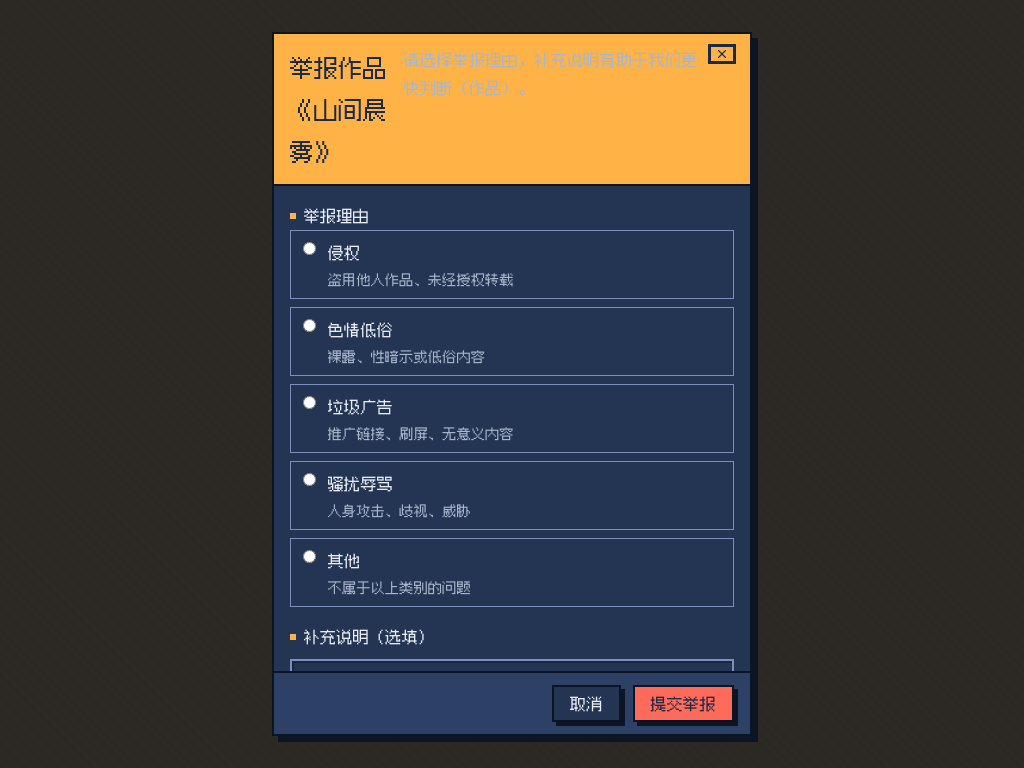
ReportDialog › 选择理由后提交：入参正确，就地展示回执与查看入口
Click the radio button labelled "侵权 盗用他人作品、未经授权转载". click: (310, 248)
box: [303,242,316,255]
(page scrolled)
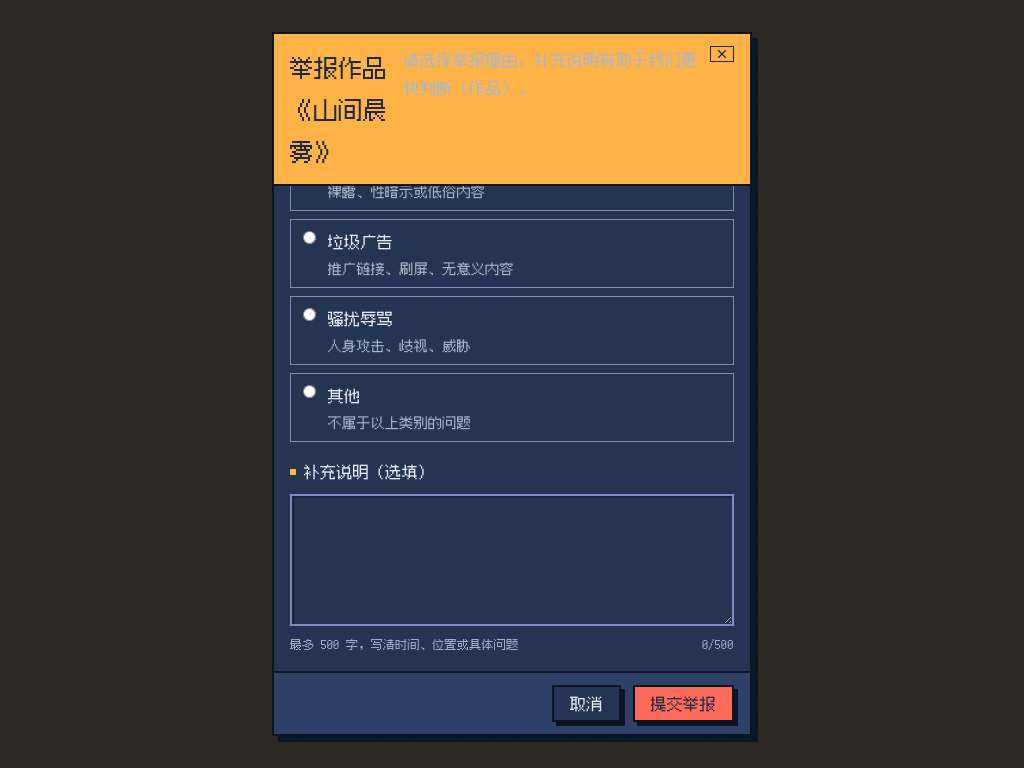
Type "  这是他人作品  " into the text box labelled "补充说明（选填）". click: (512, 560)
box: [290,494,734,626]
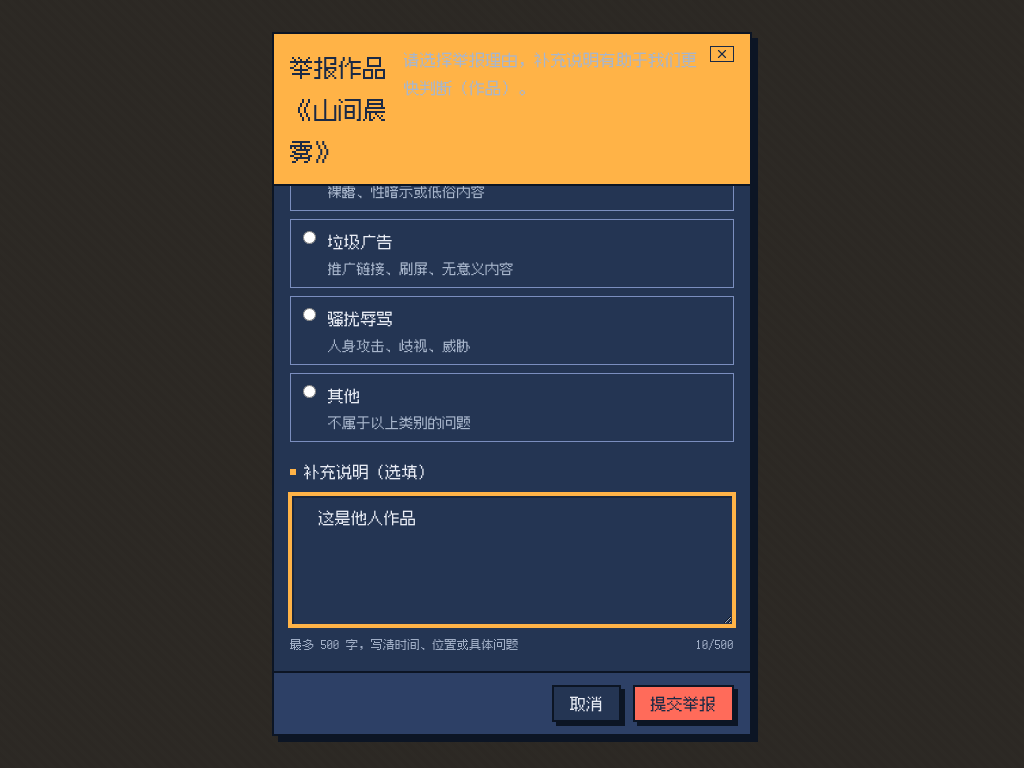
Click the button "提交举报". click: (683, 703)
box: [633,685,734,722]
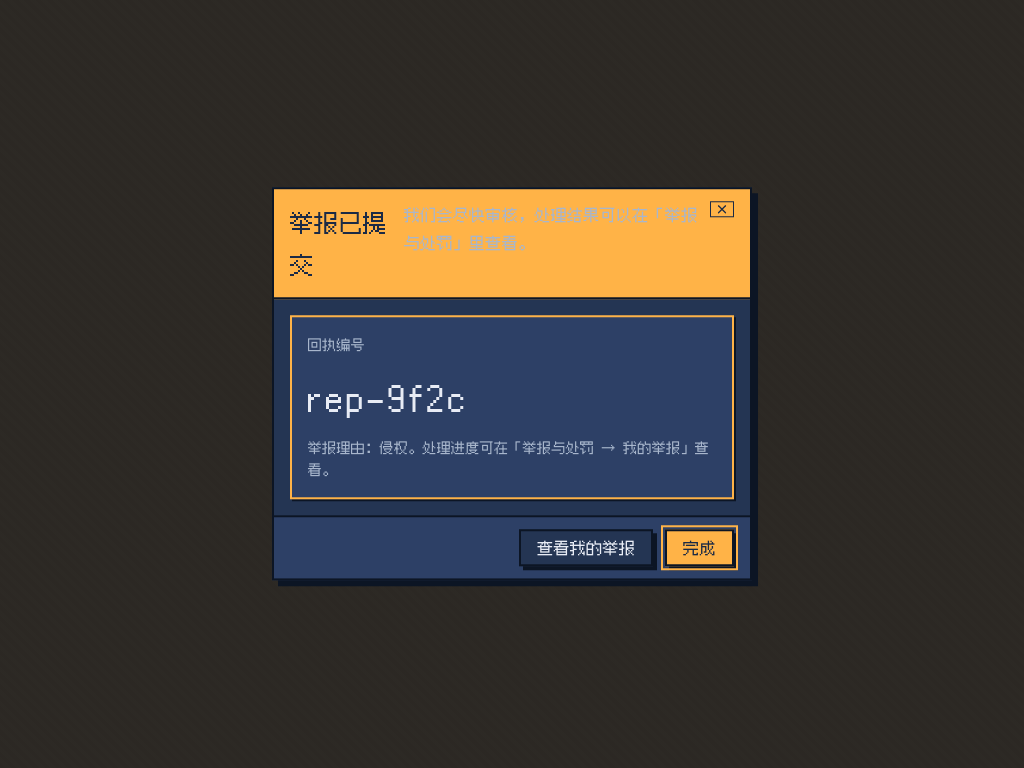
Expected: the message shows "rep-9f2c", [308,373,469,421]
Expected: the button "完成" is shown, [665,530,734,567]
